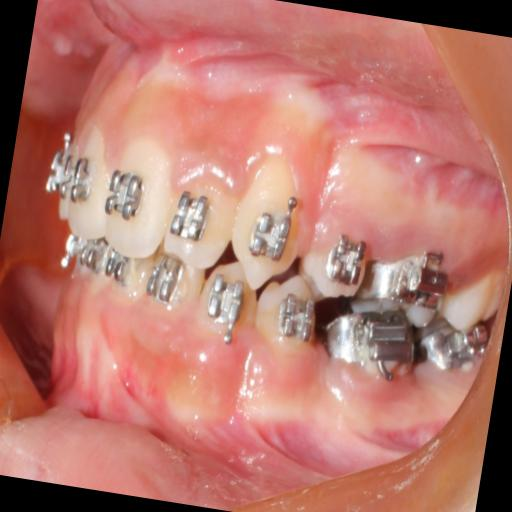correct_brace: (244, 198, 294, 272), (98, 168, 151, 226), (166, 188, 208, 248)
incorrect_brace: (162, 162, 240, 272)
